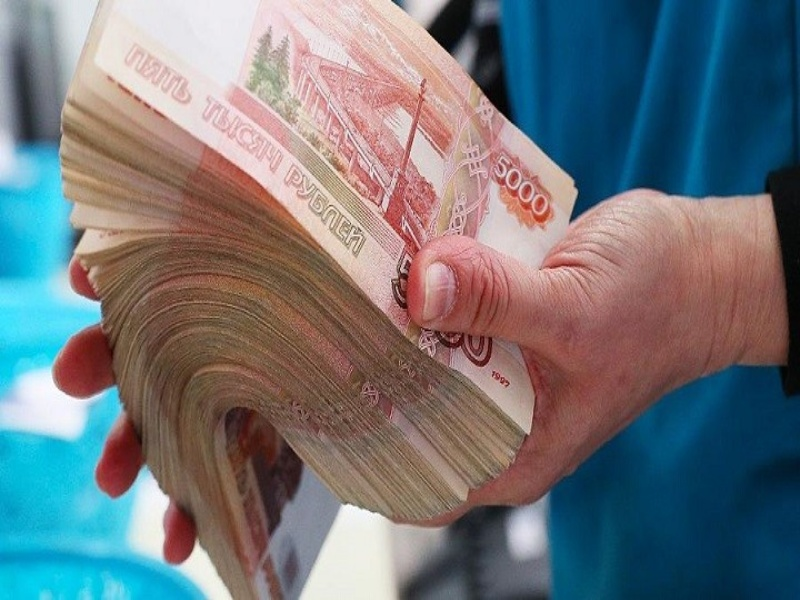cash: (58, 1, 578, 600)
